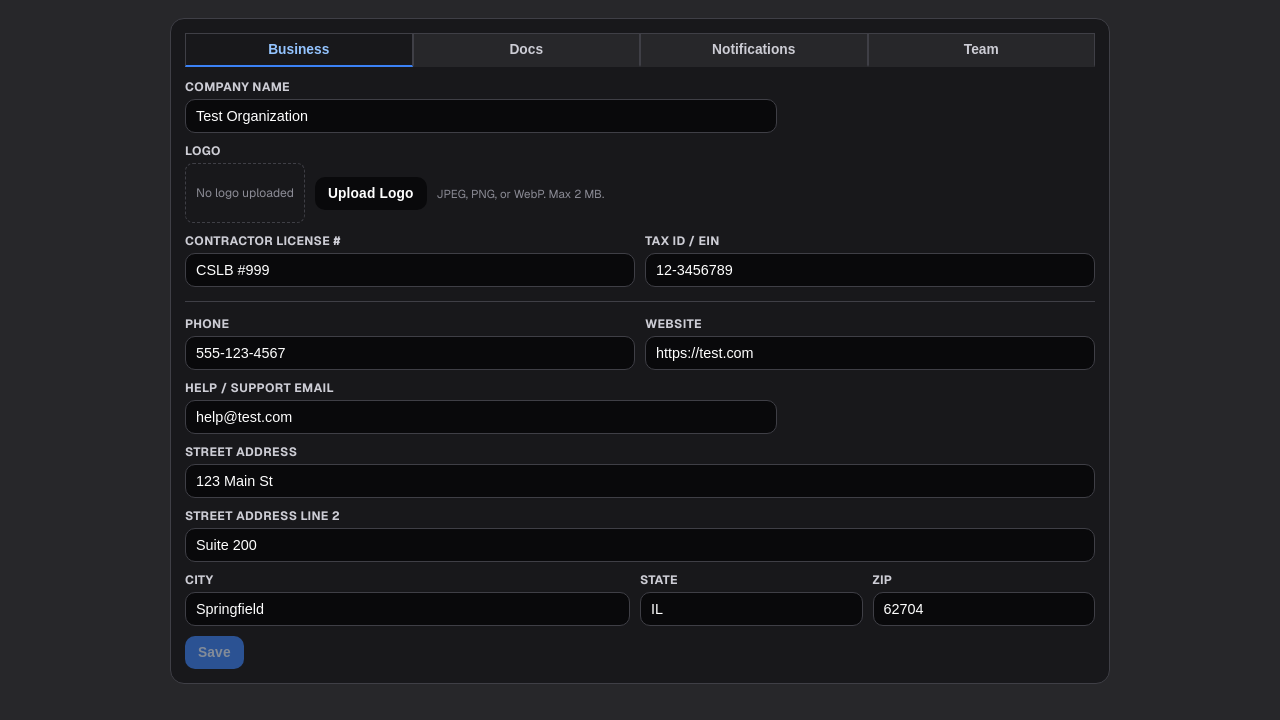
Test: OrganizationConsole › switches to Team tab and renders membership table
This screenshot has width=1280, height=720.
Check: the text "Company Name" is shown, box 185,79 -> 290,95
Click the button "Team". click: (981,50)
box: 868,33 -> 1095,67
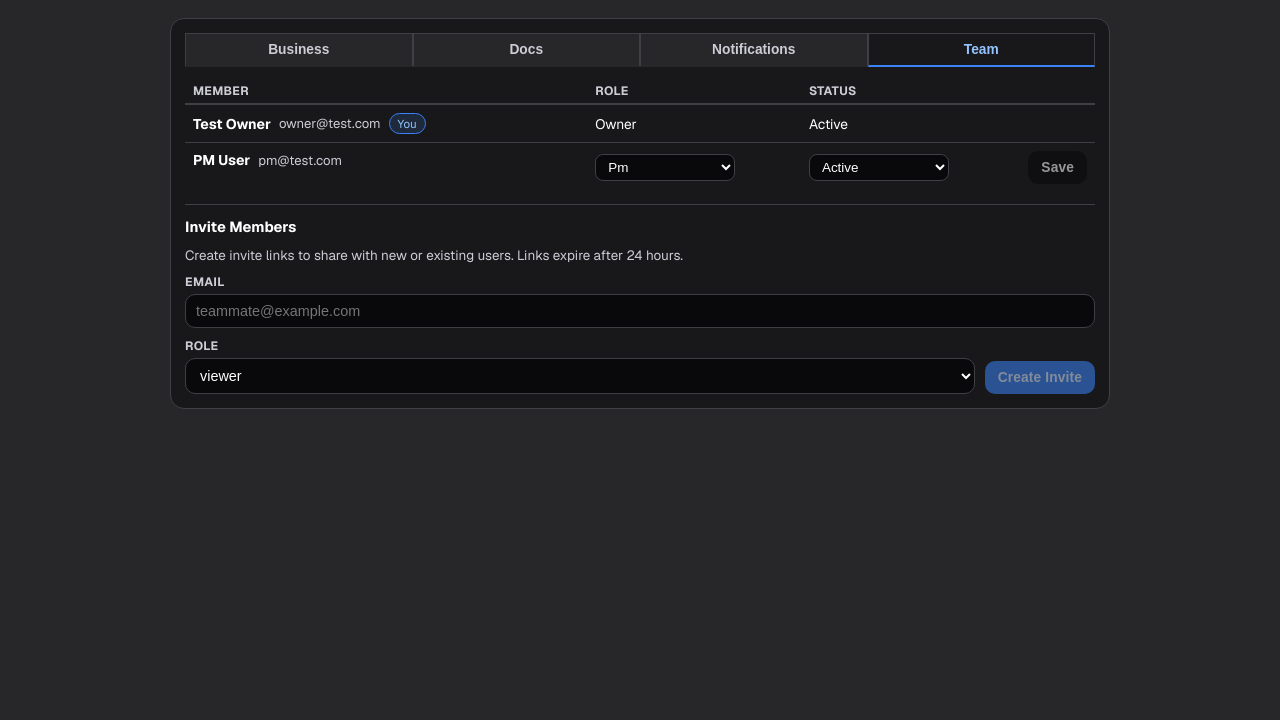
Check: the text "Test Owner" is shown, box 193,114 -> 271,132
Check: the text "PM User" is shown, box 193,151 -> 250,169
